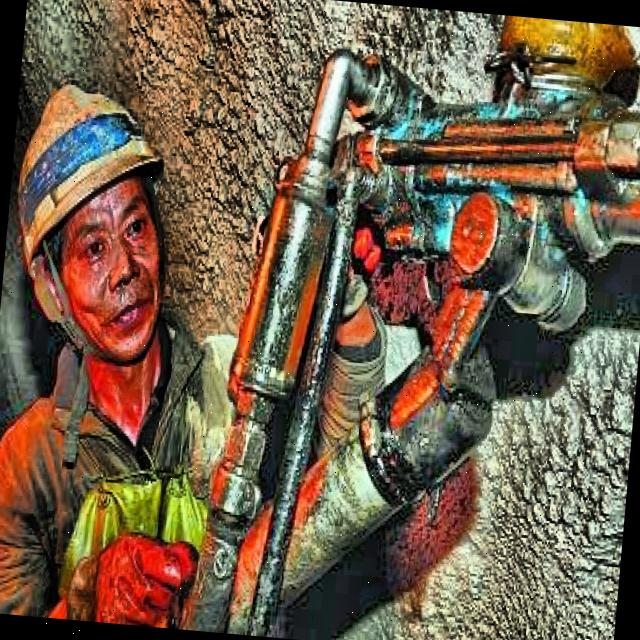helmet: (0, 61, 188, 381)
